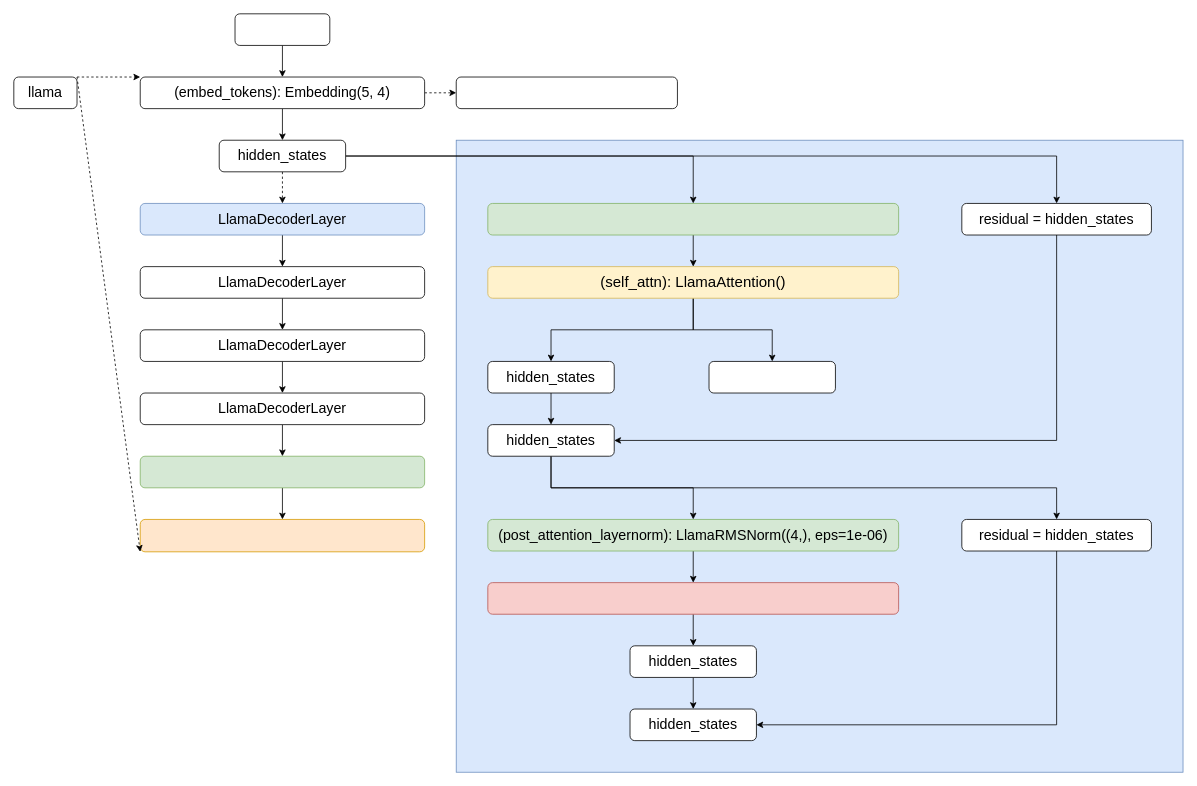
The diagram is 1197 pixels wide and 786 high, and some of its shapes have lost their labels. The shapes that lost their labels are listed below. From the top down, each one's centre as x and y in pixels, then its label:
At point (282, 29): "input_ids".
At point (566, 92): "nn.Embedding(5, 4, None)".
At point (693, 219): "(input_layernorm): LlamaRMSNorm((4,), eps=1e-06)".
At point (771, 377): "self_attn_weights".
At point (282, 471): "(norm): LlamaRMSNorm((4,), eps=1e-06)".
At point (282, 535): "(rotary_emb): LlamaRotaryEmbedding()".
At point (693, 598): "(mlp): LlamaMLP()".
